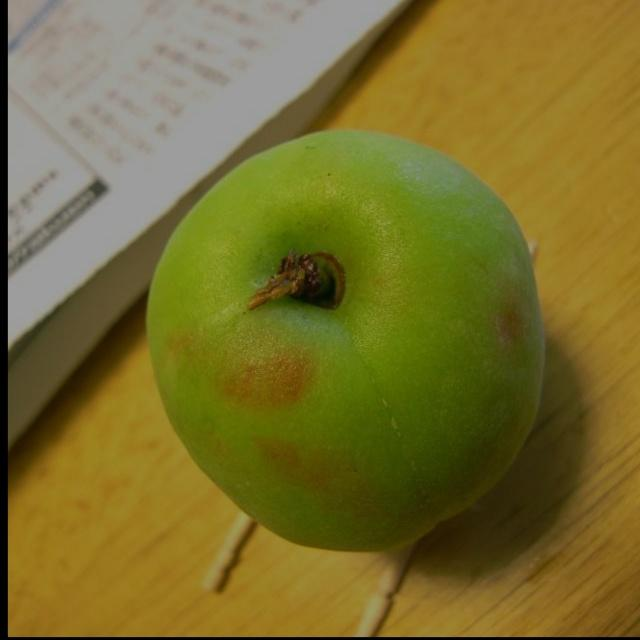green apple: (136, 126, 557, 558)
